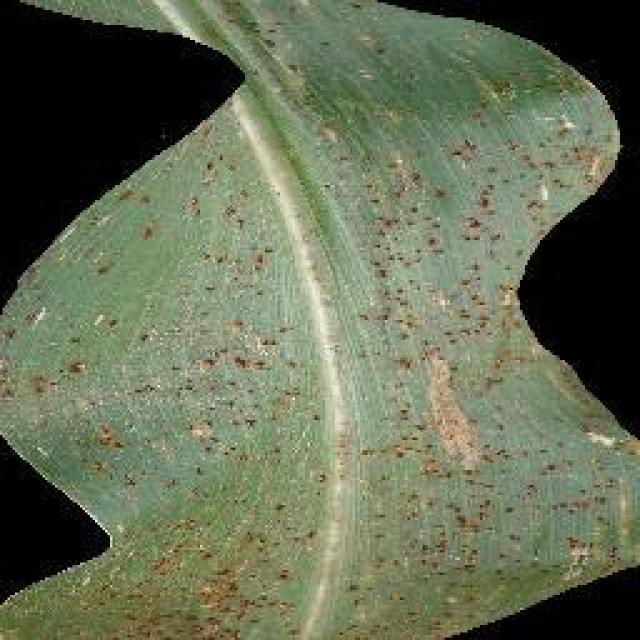Corn Common Rust: (155, 227, 512, 635)
